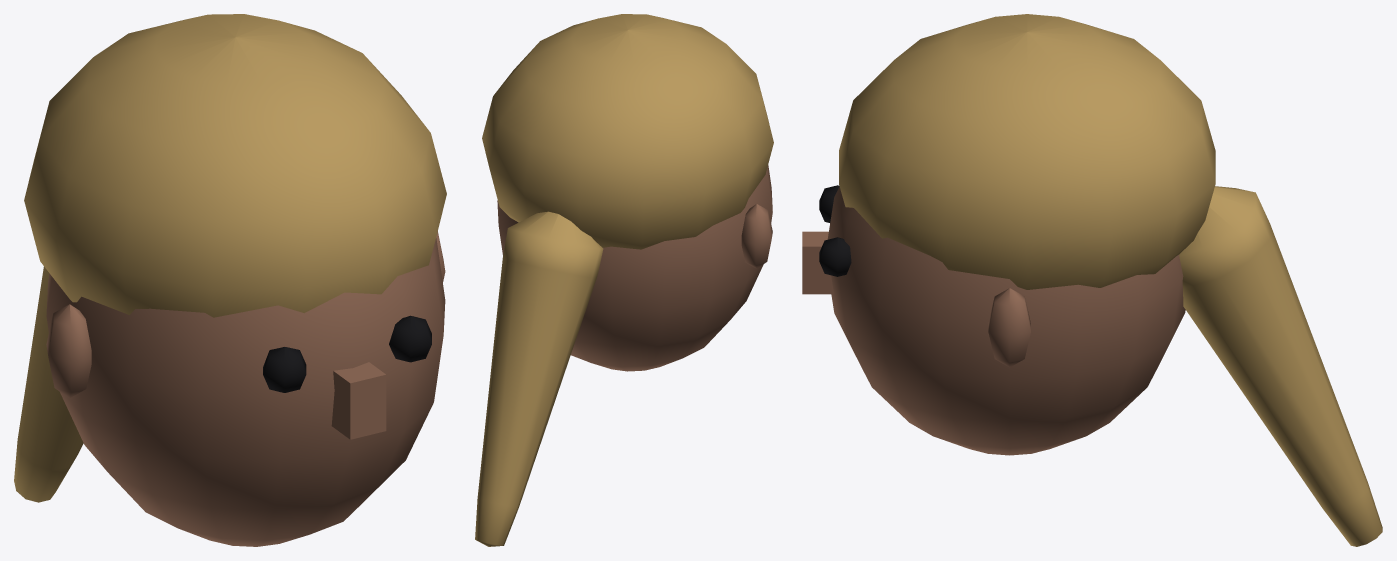
The model's file is head.obj.
3 views of the same model, side by side, from view 1: azimuth 30°, elevation 25°; view 2: azimuth 150°, elevation 25°; view 3: azimuth 270°, elevation 25° (orthographic). The views are drawn at different scales.
Visible parts, largest first — view 1: head; view 2: head; view 3: head.
Part boxes in pixels (x1=…): head: x1=14, y1=14, x2=446, y2=546; head: x1=475, y1=14, x2=773, y2=546; head: x1=802, y1=14, x2=1382, y2=546.
Bounding box in the file's own units: 0.2112 × 0.3082 × 0.317.
